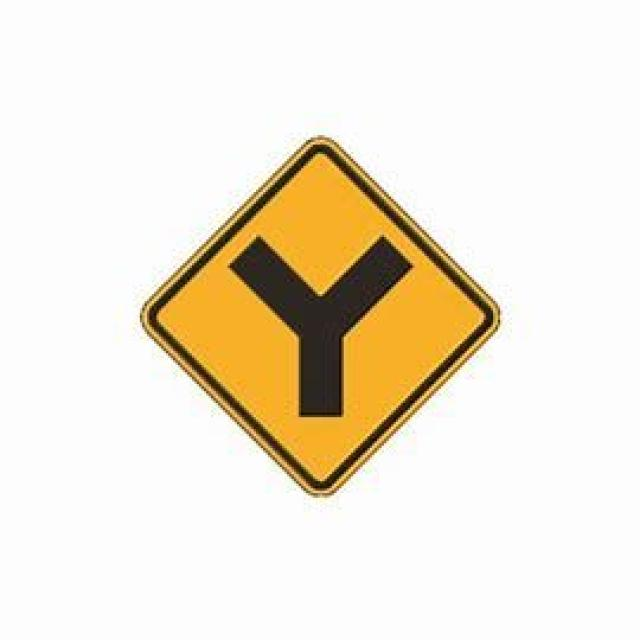y intersection: (138, 140, 507, 501)
